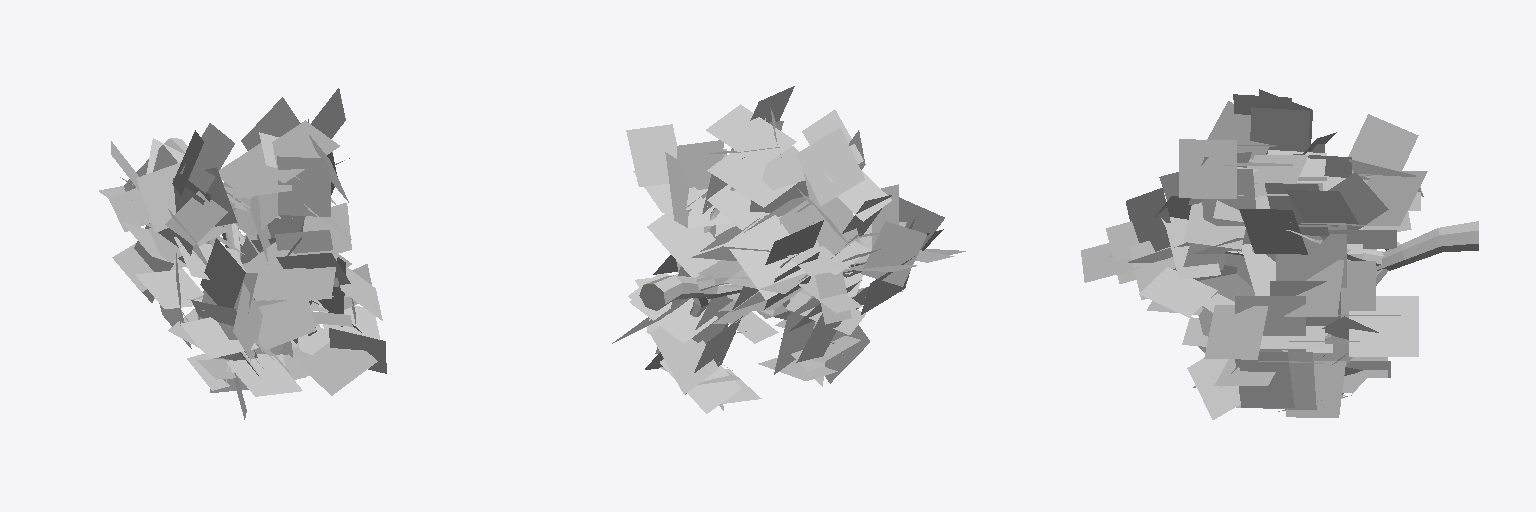
The model's file is oak_01.obj.
The picture shows the model from 3 angles: view 1: azimuth 30°, elevation 25°; view 2: azimuth 150°, elevation 25°; view 3: azimuth 270°, elevation 25°; orthographic projection.
Parts seen in each view (by area): view 1: Model__oak1Tree_005; view 2: Model__oak1Tree_005; view 3: Model__oak1Tree_005.
Boxes of the visible parts, x1,y1,x2,y2 form: Model__oak1Tree_005: [99, 88, 386, 419]; Model__oak1Tree_005: [612, 86, 965, 413]; Model__oak1Tree_005: [1081, 89, 1478, 419].
Bounding box in the file's own units: 12.5 × 13.67 × 17.6.